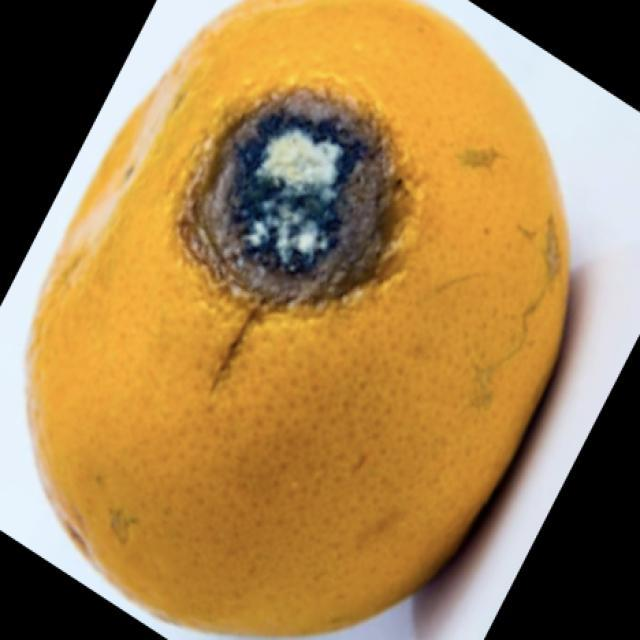sedikit-busuk: (29, 0, 567, 634), (181, 90, 399, 309)
